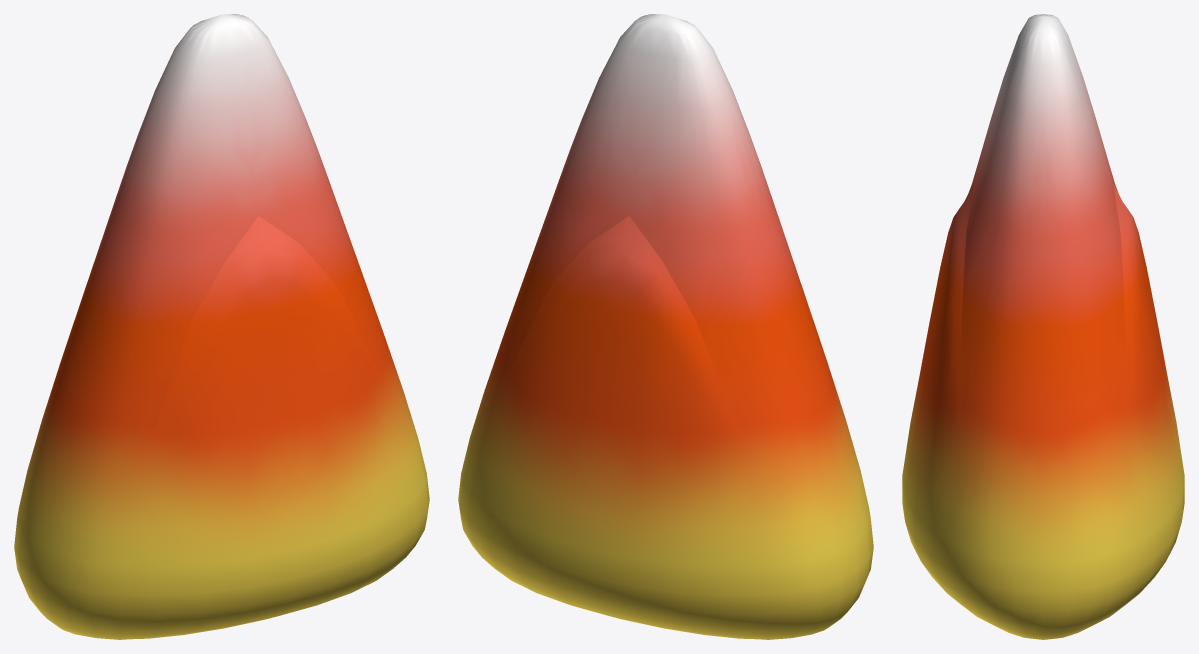
The model's file is candycorn.glb.
The picture shows the model from 3 angles, left to right: view 1: azimuth 30°, elevation 25°; view 2: azimuth 150°, elevation 25°; view 3: azimuth 270°, elevation 25°; orthographic projection. The views are drawn at different scales.
Parts seen in each view (by area): view 1: CandyCorn; view 2: CandyCorn; view 3: CandyCorn.
Part boxes in pixels (x1,y1,x2,y2): CandyCorn: (14, 14, 429, 639); CandyCorn: (458, 14, 873, 639); CandyCorn: (902, 14, 1184, 639).
Size of the model in its own units: 0.1365 by 0.2011 by 0.0916.
1 material, 1 textured.
